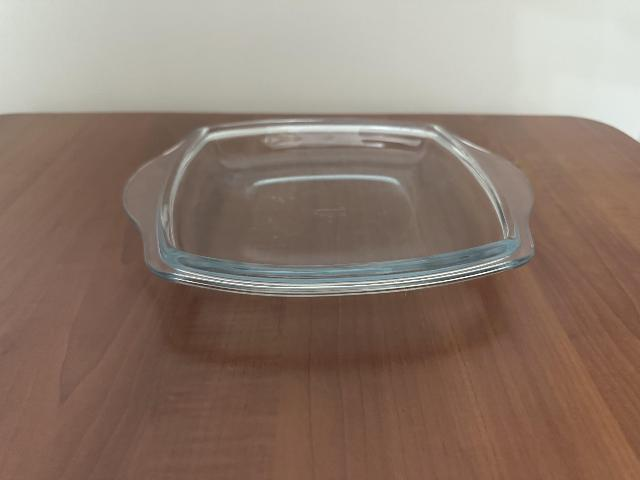Cam: (120, 118, 536, 297)
